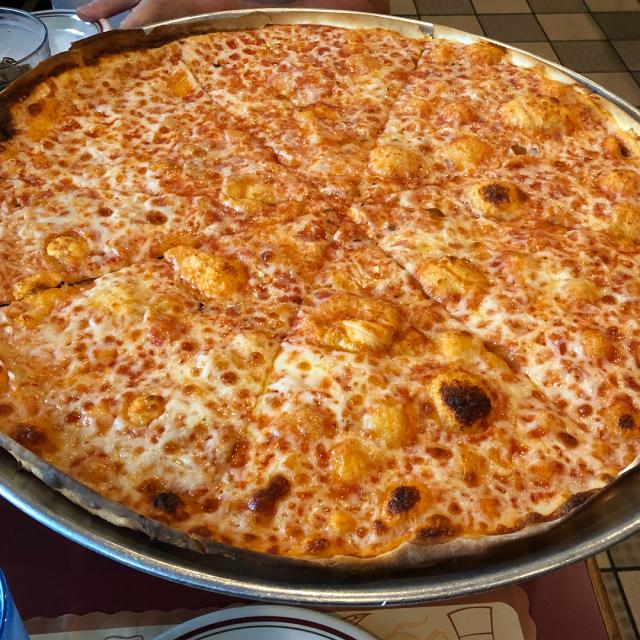pizza: (0, 25, 640, 561)
